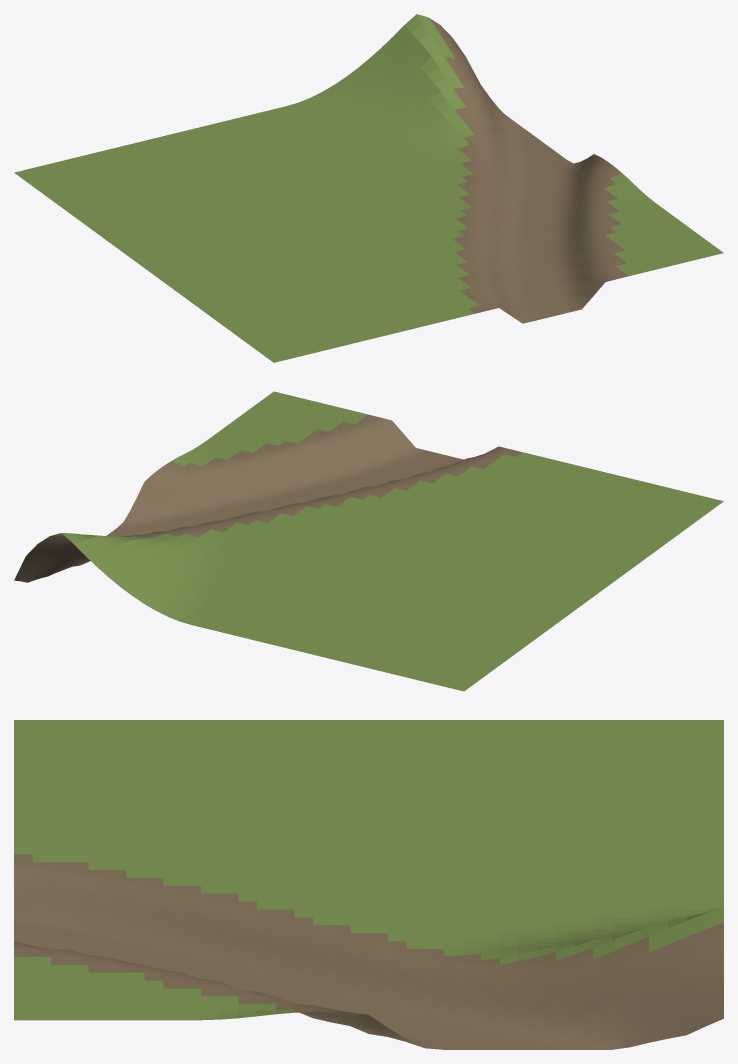
The model's file is region_1_1.glb.
3 views of the same model, one above another, from view 1: azimuth 30°, elevation 25°; view 2: azimuth 150°, elevation 25°; view 3: azimuth 270°, elevation 25° (orthographic). The views are drawn at different scales.
Parts seen in each view (by area): view 1: OD_Meadow.017, OD_Ground.017; view 2: OD_Meadow.017, OD_Ground.017; view 3: OD_Meadow.017, OD_Ground.017.
Boxes of the visible parts, left/top/right/bottom form: OD_Meadow.017: left=14, top=14, right=723, bottom=362; OD_Ground.017: left=429, top=18, right=628, bottom=323; OD_Meadow.017: left=62, top=391, right=723, bottom=691; OD_Ground.017: left=14, top=414, right=521, bottom=583; OD_Meadow.017: left=14, top=720, right=723, bottom=1019; OD_Ground.017: left=14, top=854, right=723, bottom=1049.
Bounding box in the file's own units: 31.52 × 5.49 × 31.52.
